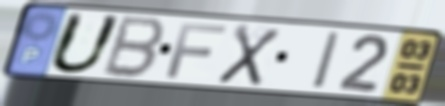2: (336, 32, 391, 95)
B: (99, 13, 170, 81)
F: (164, 21, 231, 80)
I: (310, 29, 344, 91)
U: (45, 10, 126, 76)
X: (214, 22, 284, 88)
